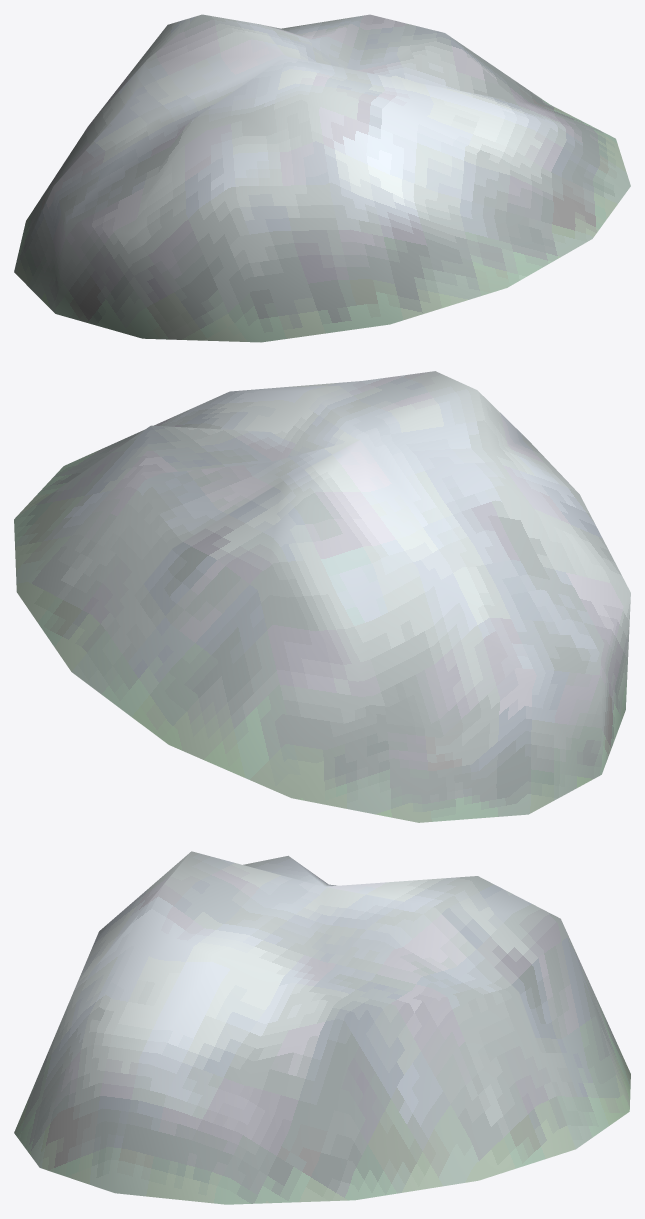
The model's file is TROLLHOLE02_STONEA11.fbx.
The picture shows the model from 3 angles, top to bottom: view 1: azimuth 30°, elevation 25°; view 2: azimuth 150°, elevation 25°; view 3: azimuth 270°, elevation 25°; orthographic projection. The views are drawn at different scales.
Parts seen in each view (by area): view 1: TROLLHOLE02_STONEA11; view 2: TROLLHOLE02_STONEA11; view 3: TROLLHOLE02_STONEA11.
Boxes of the visible parts, x1,y1,x2,y2 form: TROLLHOLE02_STONEA11: [14, 14, 630, 342]; TROLLHOLE02_STONEA11: [14, 371, 630, 822]; TROLLHOLE02_STONEA11: [14, 851, 630, 1204].
Size of the model in its own units: 12467 by 5343 by 10993.
Materials: 1 (1 with a texture image).
